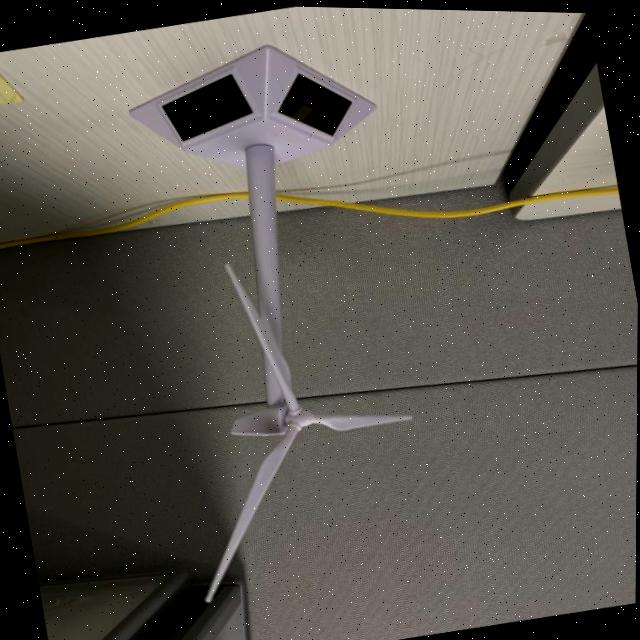solid-blade: (204, 426, 296, 601), (225, 263, 297, 409), (315, 412, 412, 429)
